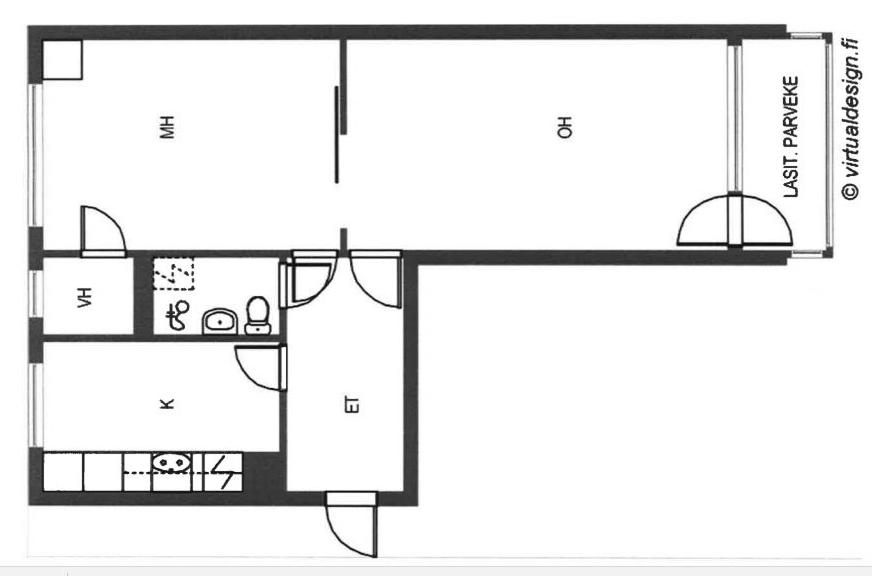bathroom: (151, 256, 281, 338)
door: (321, 487, 383, 561), (725, 191, 797, 253), (672, 191, 744, 250), (348, 244, 402, 311), (230, 342, 293, 393), (76, 201, 128, 261), (292, 245, 343, 306), (275, 263, 333, 312)
perimeter: (24, 23, 747, 512)
window: (23, 74, 47, 240), (724, 38, 744, 196), (23, 355, 45, 454), (23, 264, 46, 325)
